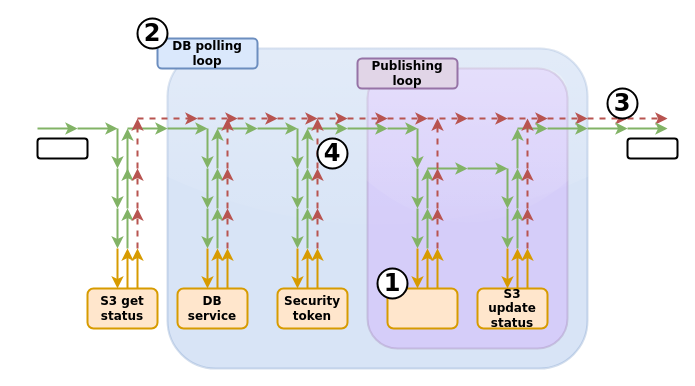
The diagram is 695 pixels wide and 386 high, and some of its shapes have lost their labels. Here are the shapes that lost their labels. From the top down, the centre of each, then its label:
At (x=62, y=148): "Begin".
At (x=652, y=148): "End".
At (x=422, y=308): "Publish".
